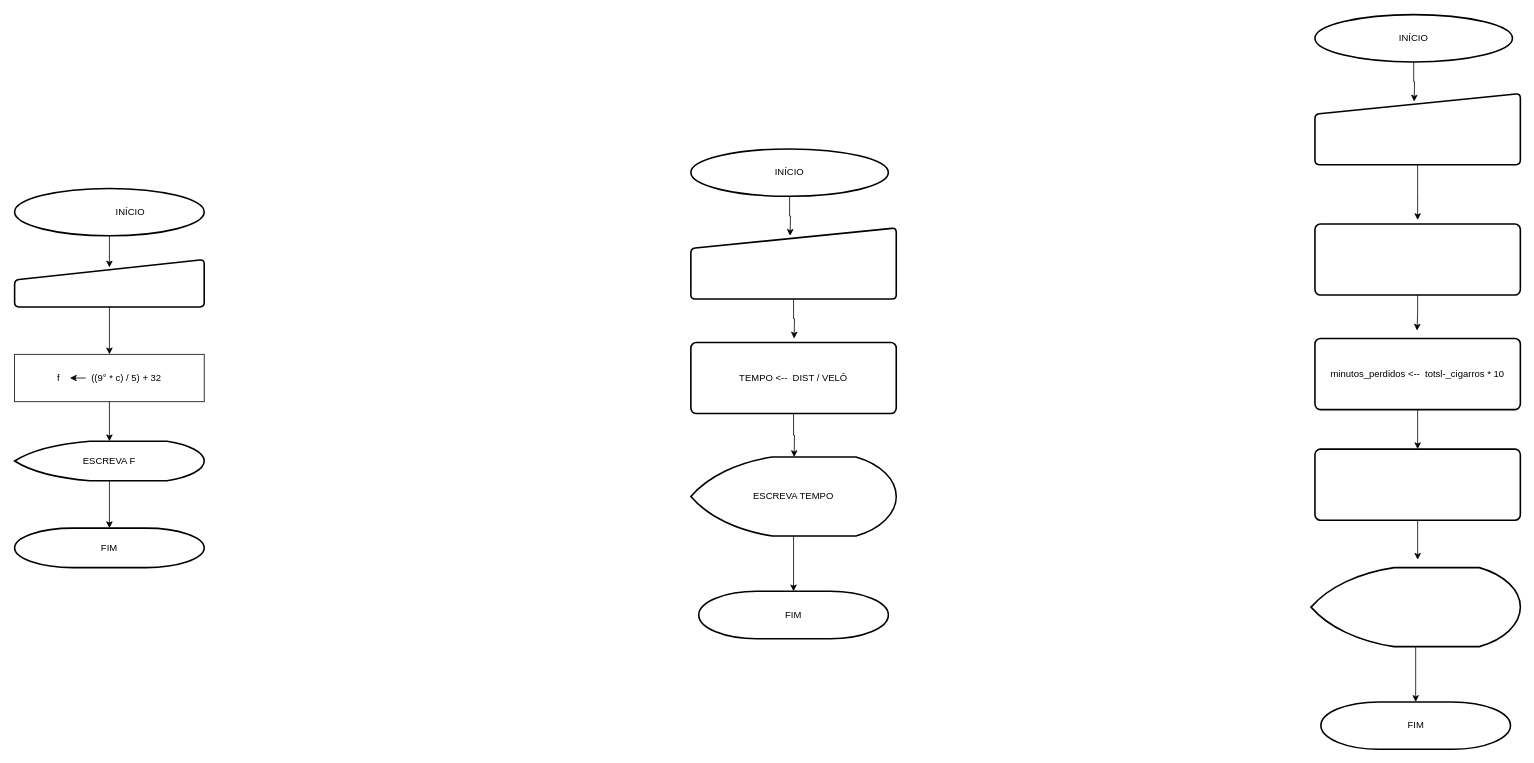
Some shapes in this 1534 by 763 pixel diagram are drawn without their labels. The shapes that lost their labels are listed below. From the top down, each one's centre as x and y in pixels, then its label:
pixel 1417 128: LEIA: CIGARROS FUMADOS POR DIA / ANOS QUE JÁ FUMOU
pixel 793 263: LEIA DISTANCIA, VELÔCIDADE
pixel 1417 259: total_cigarros <-- cigarros_dia * anos * 365
pixel 109 282: LEIA C
pixel 1417 484: dias_perdidos <-- minutos_perdidos / 1440
pixel 1415 606: ESCREVA: "Dias de vida perdidos:", dias_perdidos
